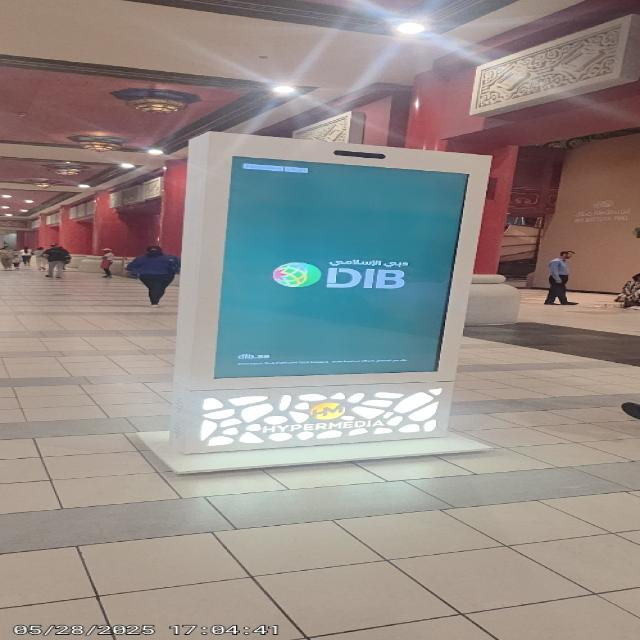mupi: (189, 132, 483, 459)
